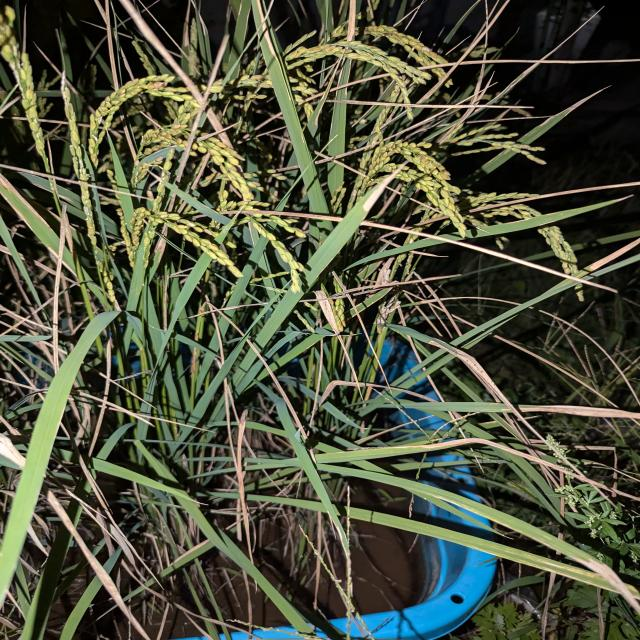9month_ine: (246, 18, 616, 534)
